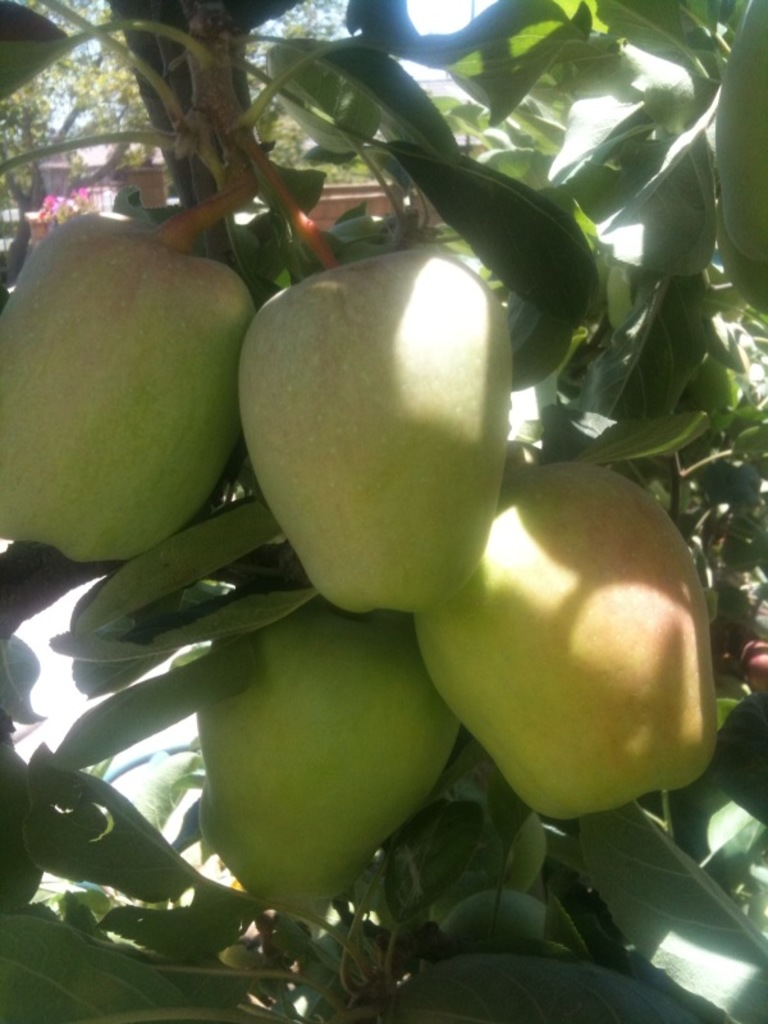Apple: (409, 459, 718, 826), (244, 253, 527, 600), (0, 208, 252, 569), (185, 599, 462, 902)
